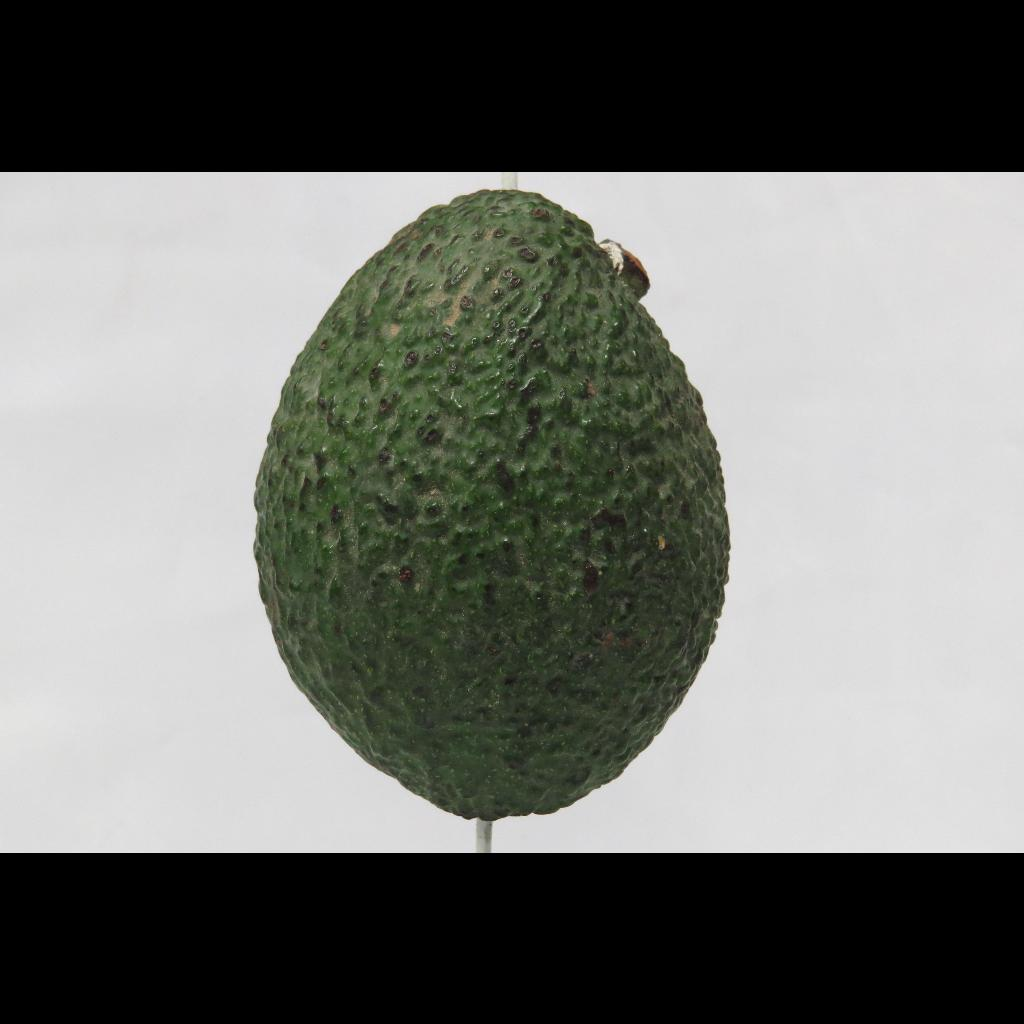fruto_sano: (220, 184, 747, 828)
